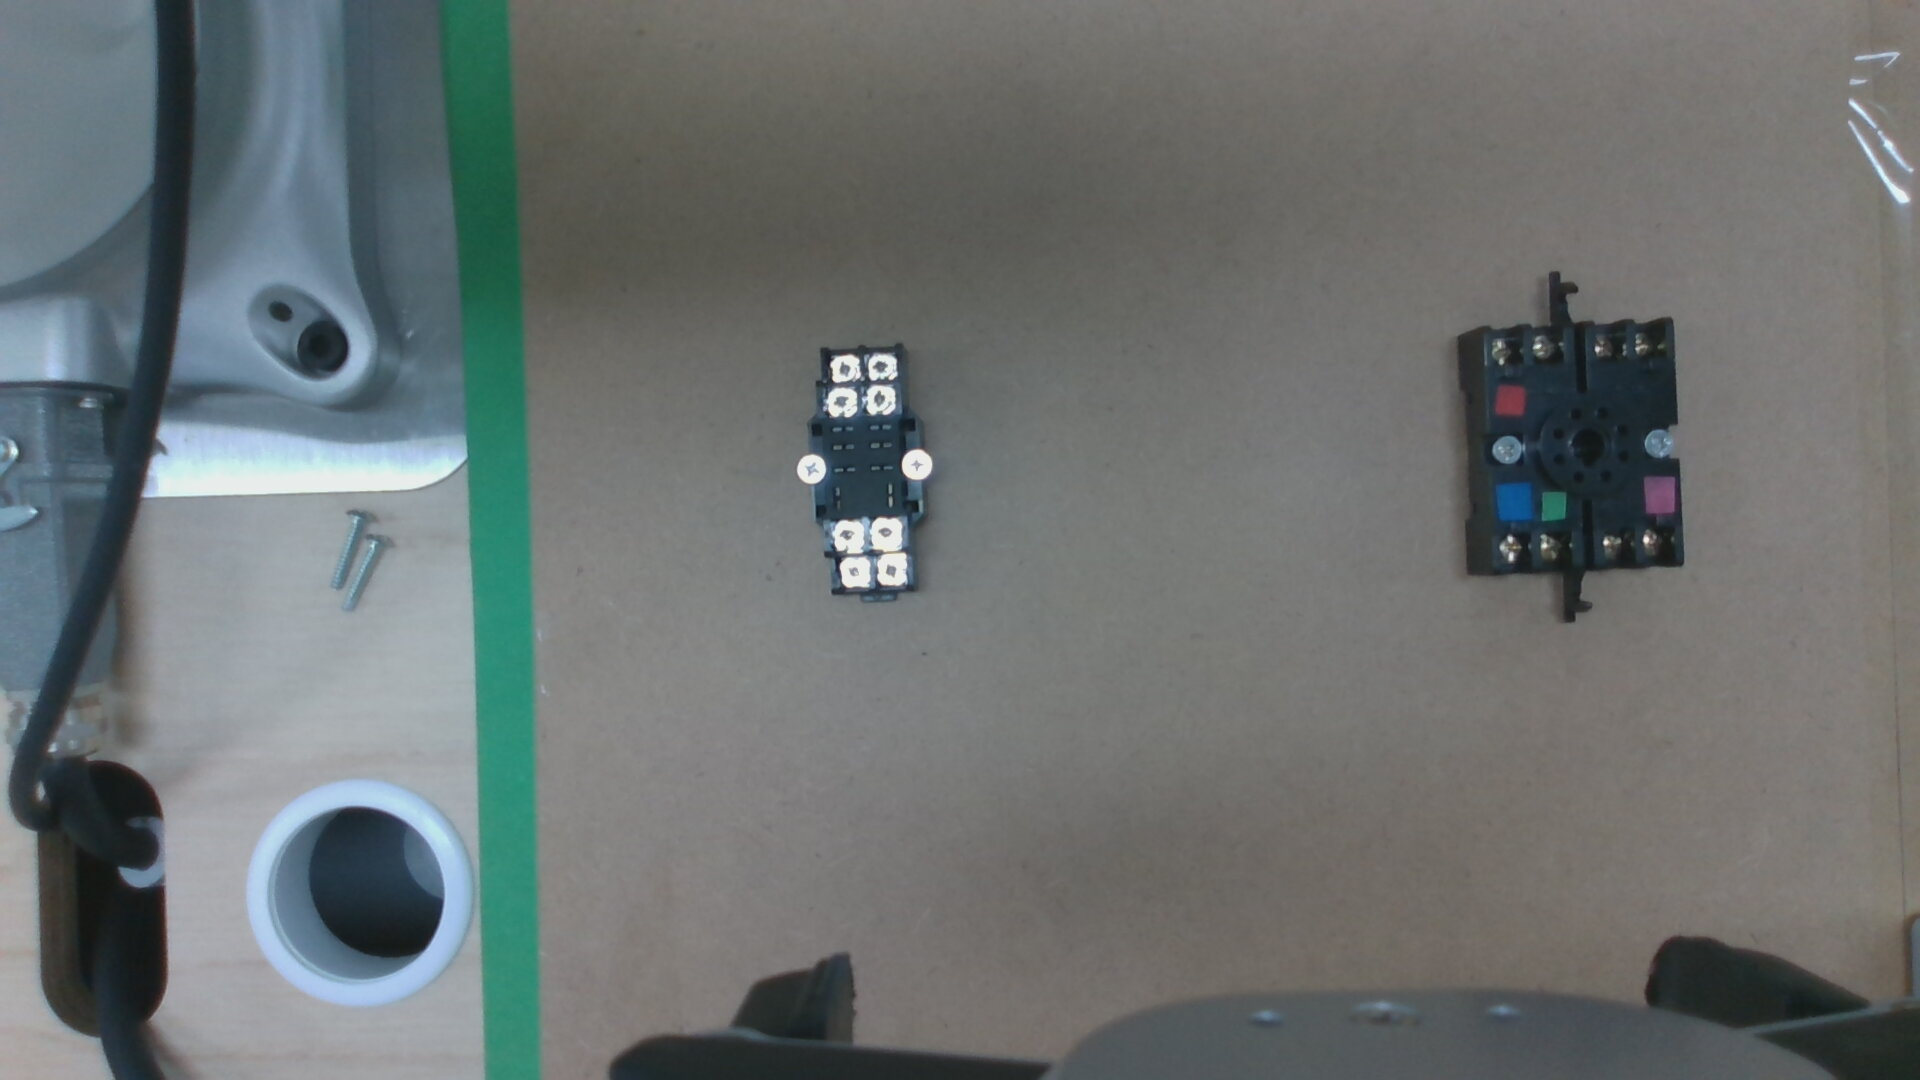relay 3: (865, 352, 895, 380)
relay 4: (827, 355, 858, 381)
relay 5: (876, 556, 905, 585)
relay 6: (837, 556, 869, 588)
relay 7: (868, 518, 902, 549)
relay 8: (833, 520, 862, 550)
